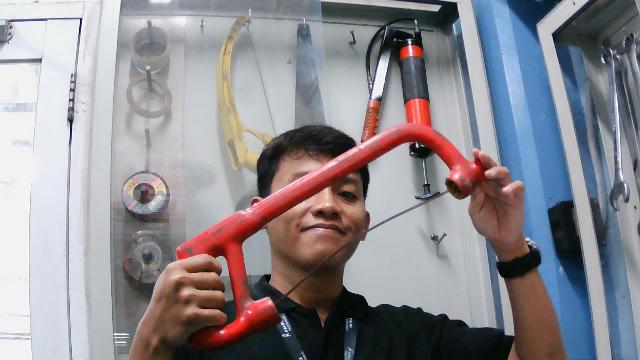gergaji_besi: (170, 119, 492, 360)
